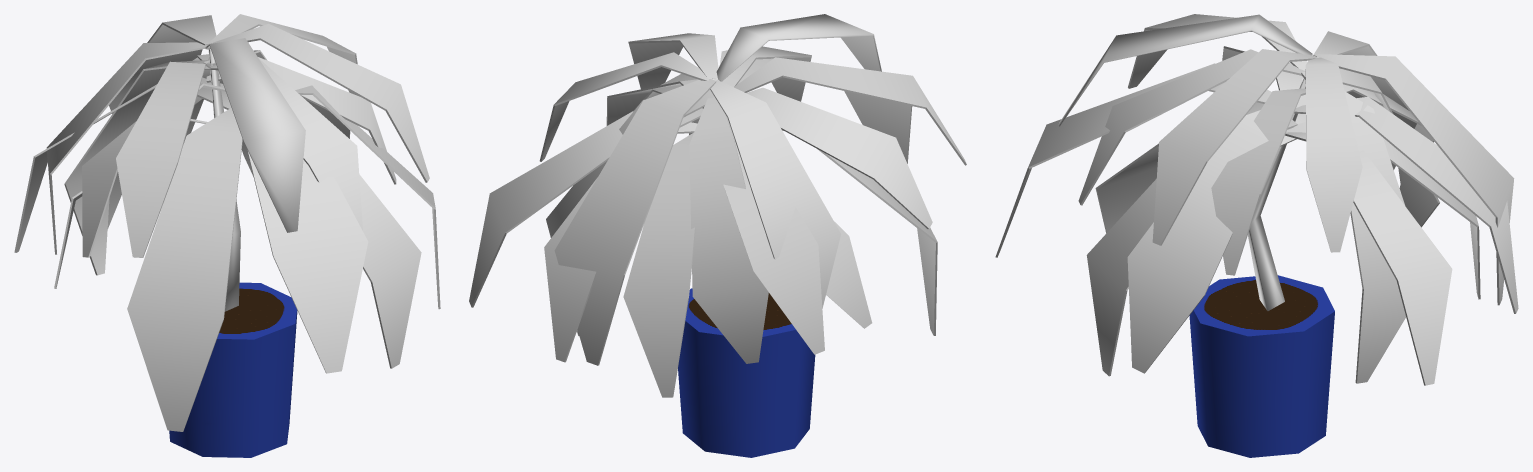
The model's file is PottedPlant.fbx.
3 views of the same model, side by side, from view 1: azimuth 30°, elevation 25°; view 2: azimuth 150°, elevation 25°; view 3: azimuth 270°, elevation 25° (orthographic). The views are drawn at different scales.
Parts seen in each view (by area): view 1: PlantLeaves, PlantPot, PlantTrunk; view 2: PlantLeaves, PlantPot; view 3: PlantLeaves, PlantPot, PlantTrunk.
Boxes of the visible parts, x1,y1,x2,y2 form: PlantLeaves: [14, 14, 440, 431]; PlantPot: [169, 282, 297, 457]; PlantTrunk: [208, 49, 240, 311]; PlantLeaves: [469, 14, 966, 397]; PlantPot: [678, 288, 815, 457]; PlantLeaves: [995, 14, 1518, 385]; PlantPot: [1189, 275, 1334, 457]; PlantTrunk: [1248, 55, 1316, 310].
Size of the model in its own units: 2.97 by 3.11 by 3.63.
2 materials, 1 textured.
